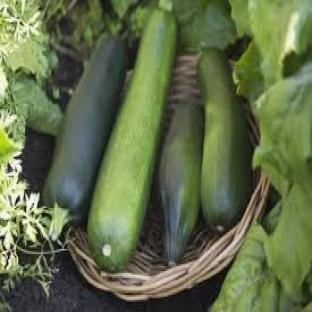Zucchini: (88, 9, 176, 272), (44, 35, 127, 223), (198, 50, 251, 228), (159, 103, 204, 264)
